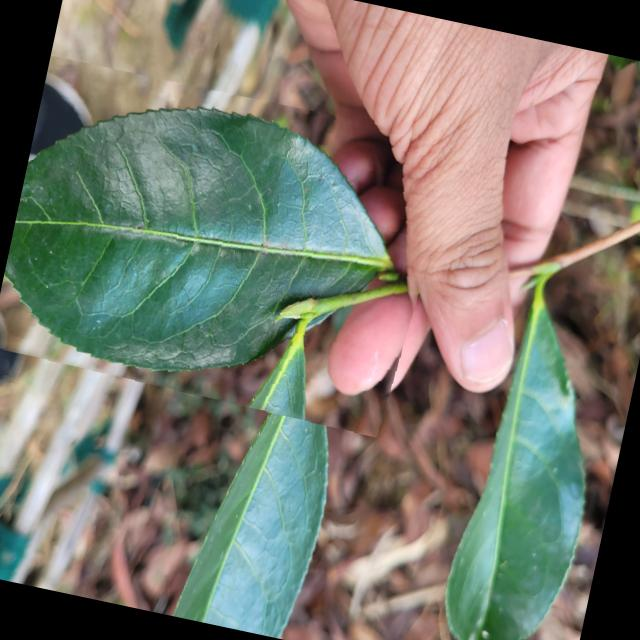Category D(7+ days, Not for Tea): (0, 55, 461, 442)
